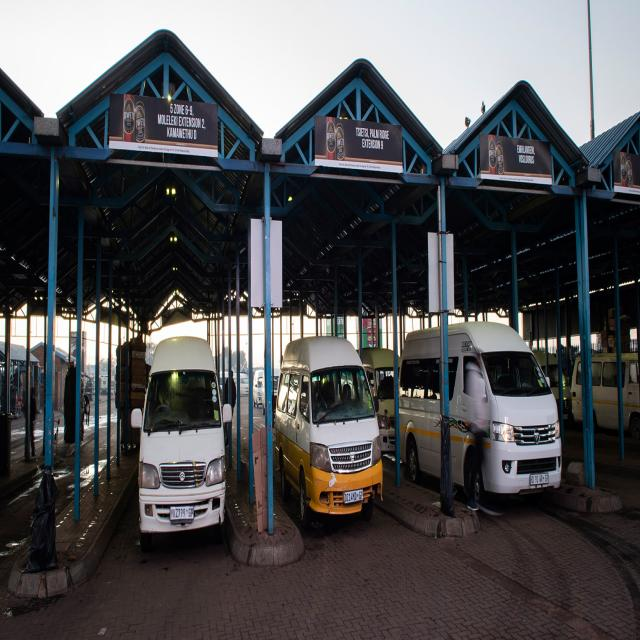MiniBus taxi: (130, 328, 235, 554), (300, 330, 387, 544), (475, 317, 565, 509)
